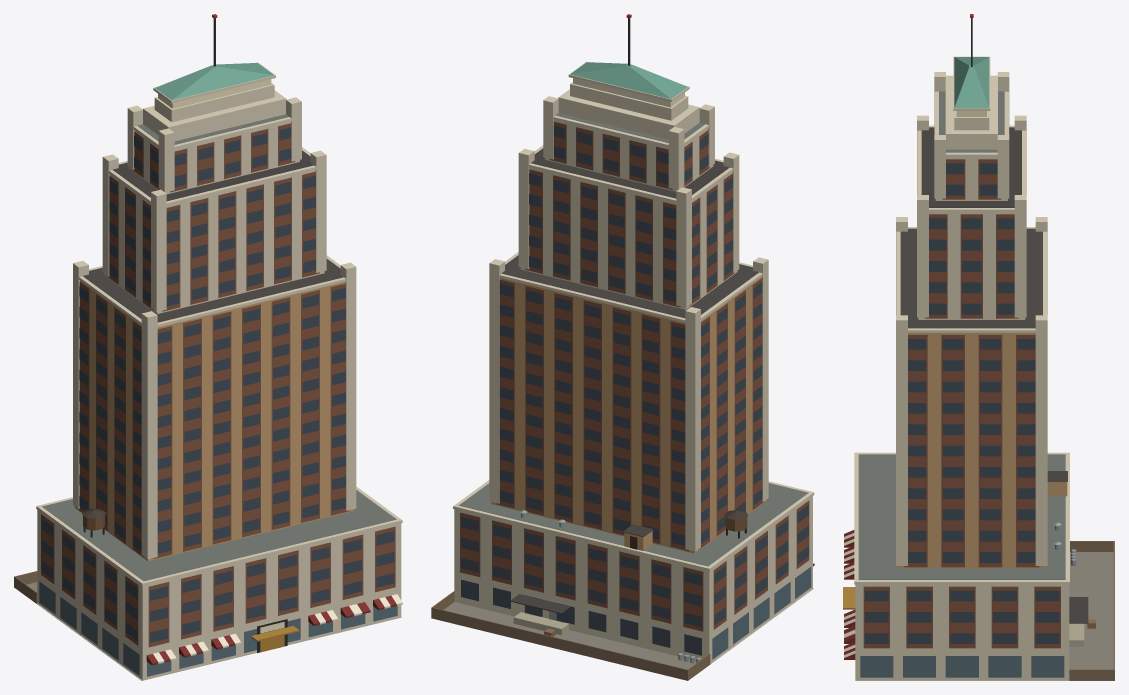
Rendered from tower_wt.glb.
3 renders of one model, left to right at view 1: azimuth 30°, elevation 25°; view 2: azimuth 150°, elevation 25°; view 3: azimuth 270°, elevation 25°, orthographic. The views are drawn at different scales.
Visible parts, largest first — view 1: tower_wt; view 2: tower_wt; view 3: tower_wt.
Part boxes in pixels (<box>): tower_wt: <box>14,14,402,680</box>; tower_wt: <box>431,14,814,680</box>; tower_wt: <box>843,14,1114,680</box>.
Size of the model in its own units: 30 by 65.23 by 26.72.
